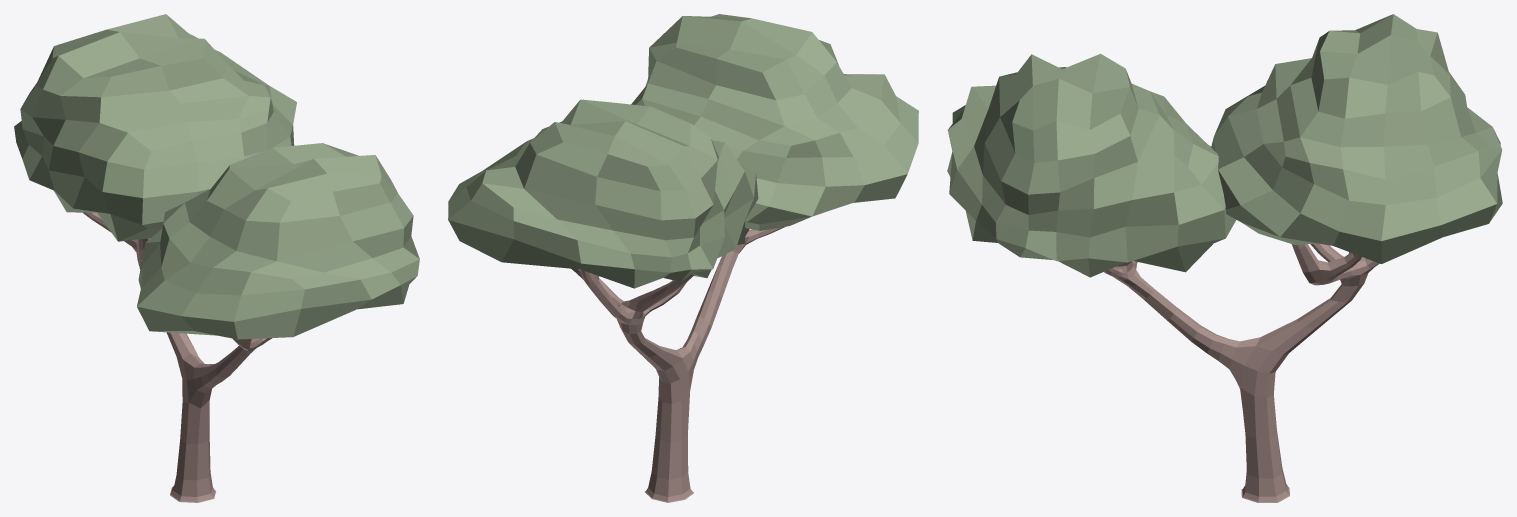
Rendered from model_oak.glb.
3 views of the same model, side by side, from view 1: azimuth 30°, elevation 25°; view 2: azimuth 150°, elevation 25°; view 3: azimuth 270°, elevation 25° (orthographic). The views are drawn at different scales.
Parts seen in each view (by area): view 1: CommonTree_1; view 2: CommonTree_1; view 3: CommonTree_1.
Boxes of the visible parts, bbox=[...] form: CommonTree_1: bbox=[14, 14, 419, 502]; CommonTree_1: bbox=[448, 14, 918, 502]; CommonTree_1: bbox=[947, 14, 1502, 502].
Size of the model in its own units: 1.89 by 2.48 by 2.77.
